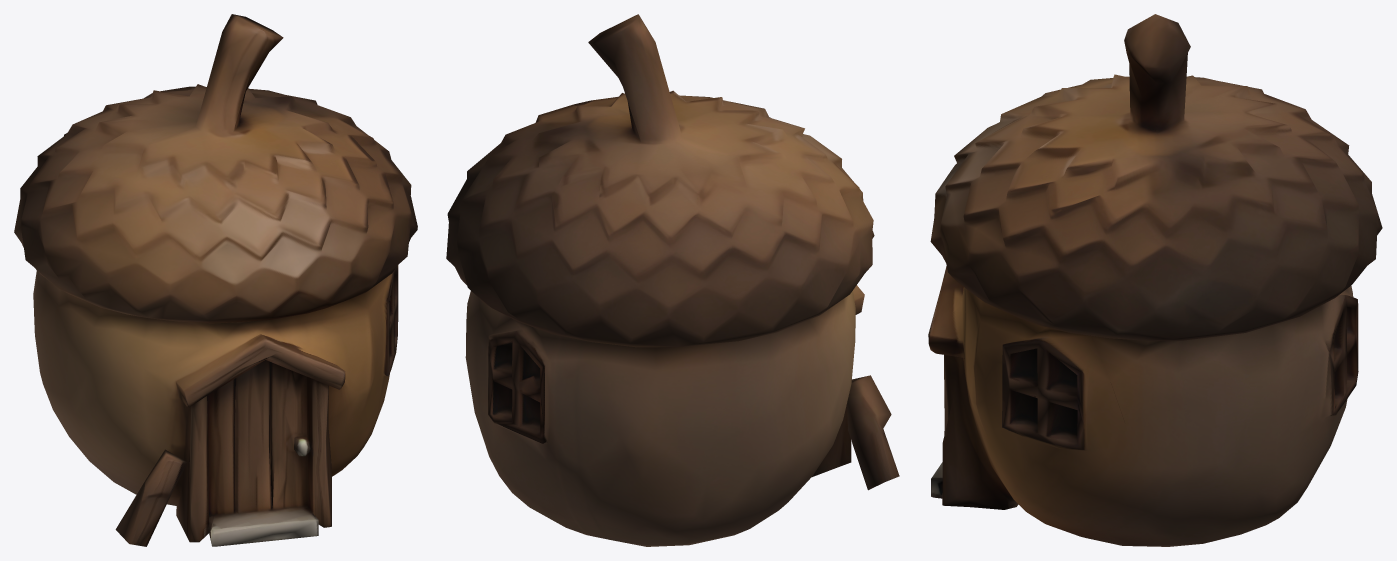
The model's file is AcornHouse.glb.
The picture shows the model from 3 angles, left to right: view 1: azimuth 30°, elevation 25°; view 2: azimuth 150°, elevation 25°; view 3: azimuth 270°, elevation 25°; orthographic projection. The views are drawn at different scales.
Parts seen in each view (by area): view 1: acorn_house; view 2: acorn_house; view 3: acorn_house.
Part boxes in pixels (x1,y1,x2,y2): acorn_house: (14,14,417,546); acorn_house: (446,14,899,546); acorn_house: (928,14,1382,546).
Bounding box in the file's own units: 0.82 × 1 × 0.8305.
1 material, 1 textured.
